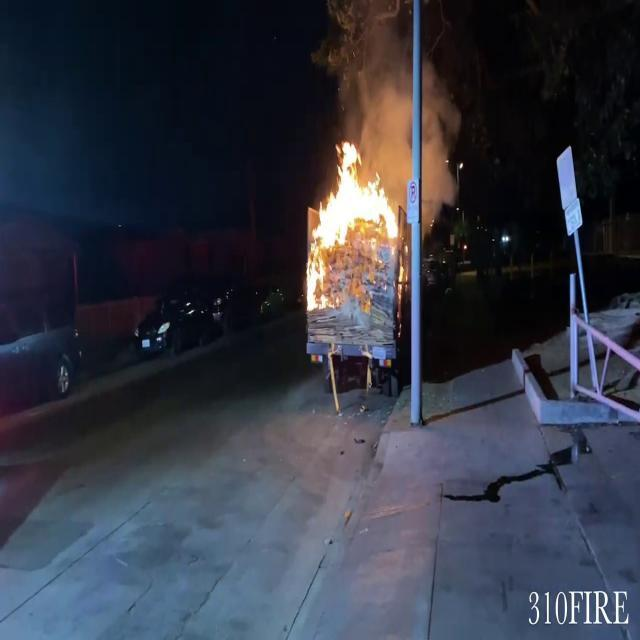Fire: (298, 136, 412, 316)
Smoke: (358, 40, 460, 194)
